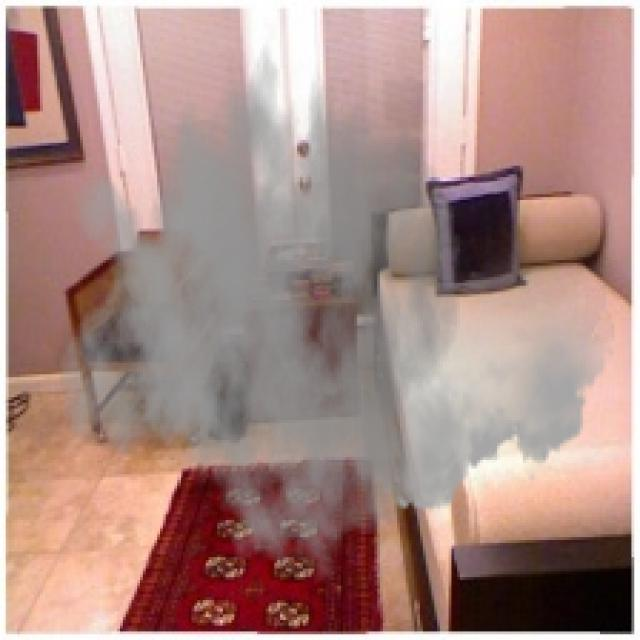smoke: (57, 17, 614, 583)
